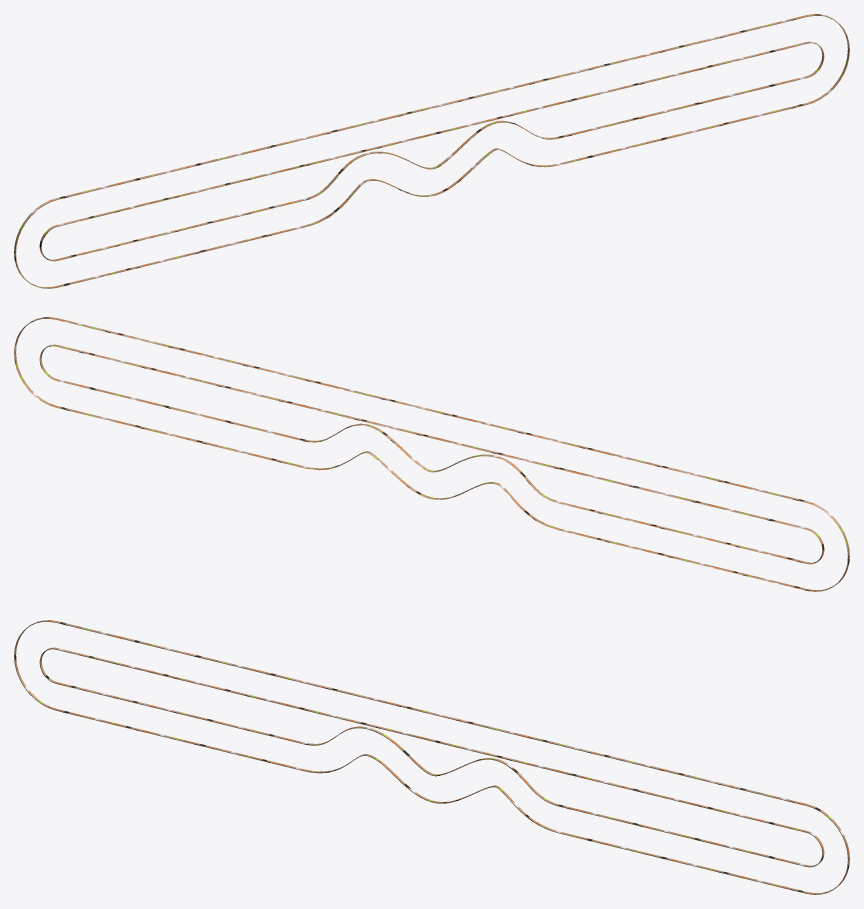
The model's file is bordure.gltf.
3 renders of one model, top to bottom at view 1: azimuth 30°, elevation 25°; view 2: azimuth 150°, elevation 25°; view 3: azimuth 330°, elevation 25°, orthographic.
Parts seen in each view (by area): view 1: Bordure; view 2: Bordure; view 3: Bordure.
Boxes of the visible parts, x1,y1,x2,y2 form: Bordure: [14, 14, 849, 288]; Bordure: [14, 317, 849, 591]; Bordure: [14, 620, 849, 894].
Bounding box in the file's own units: 50.08 × 5.08 × 0.15.
